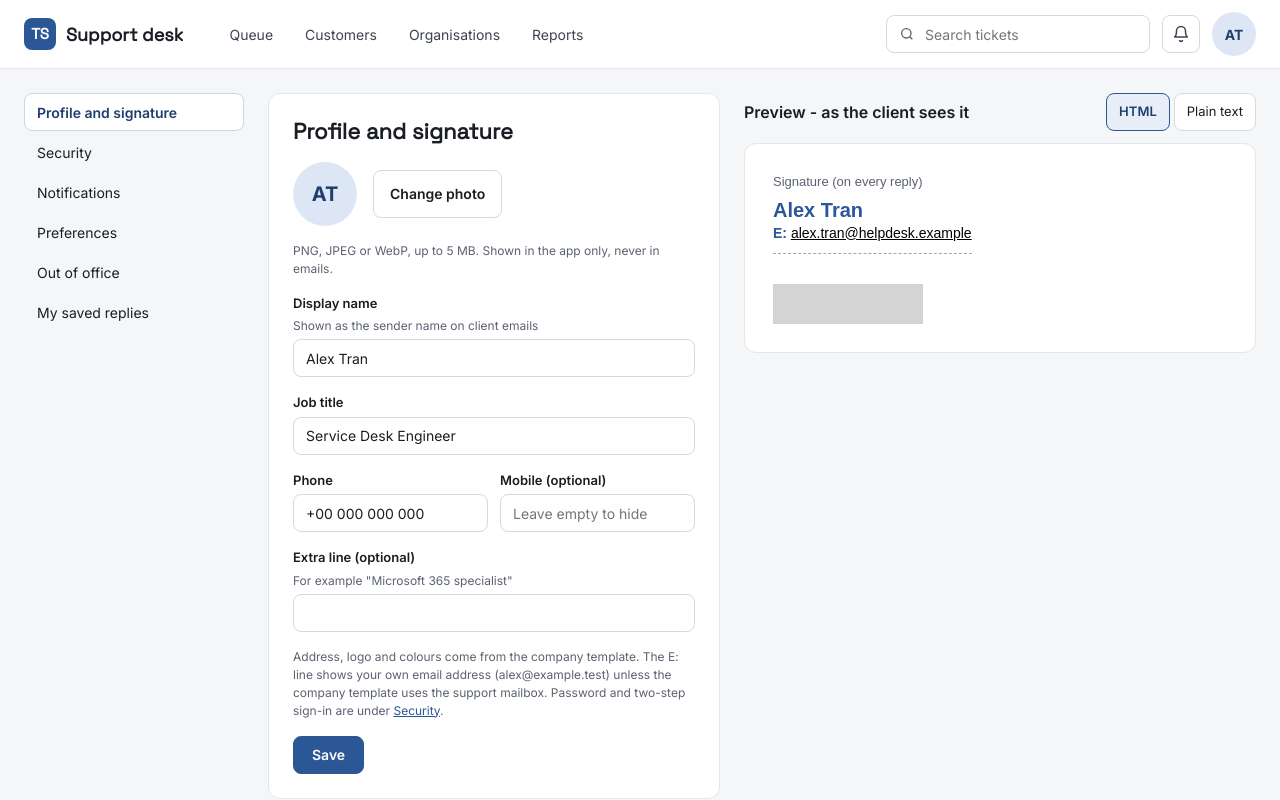
Test case: My settings - Profile and signature › loads the profile and the server's preview, then re-renders it as you type
Check: the element named "Signature" shows "alex.tran@helpdesk.example", box [791,224,972,240]
Replace the text in the field labelled "Display name" with "<b>Robin</b>". click: (494, 358)
box: [293,339,695,377]
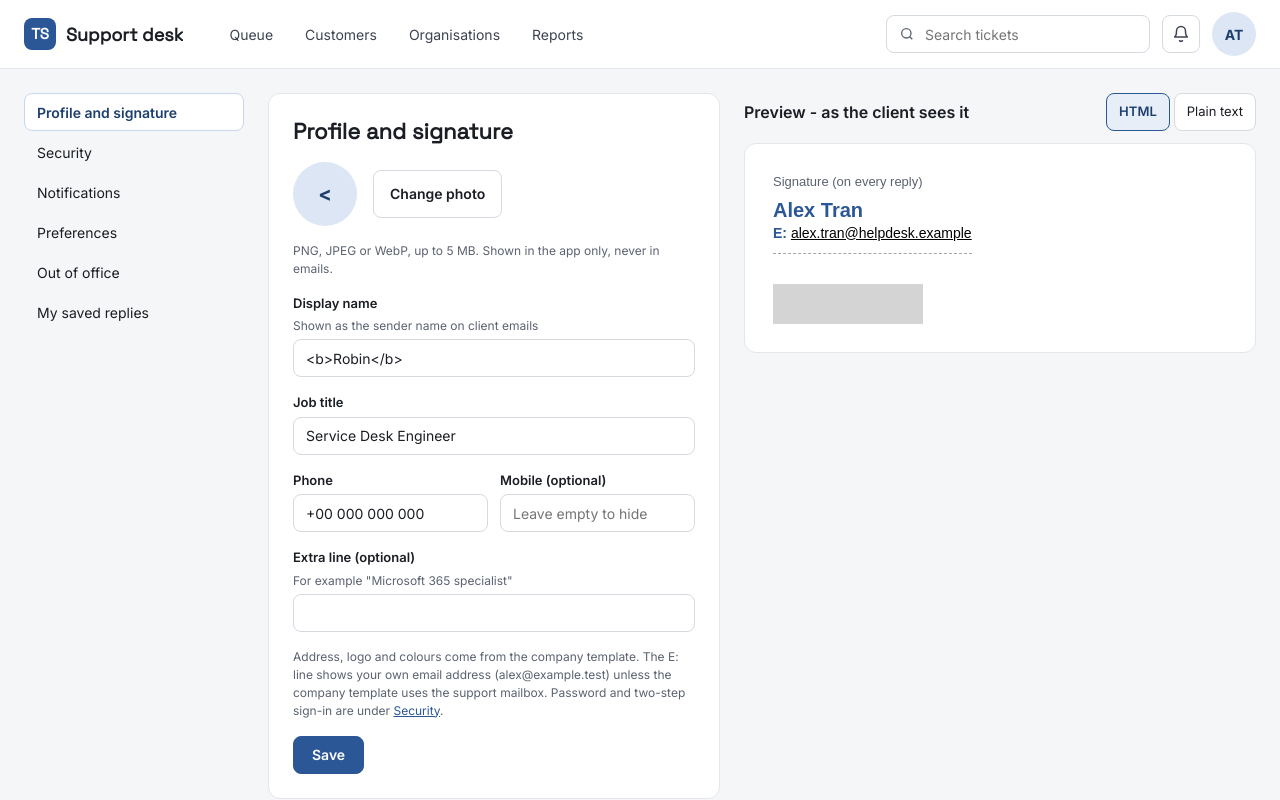
Click the button "Plain text". click: (1215, 112)
box: [1174,93,1256,131]
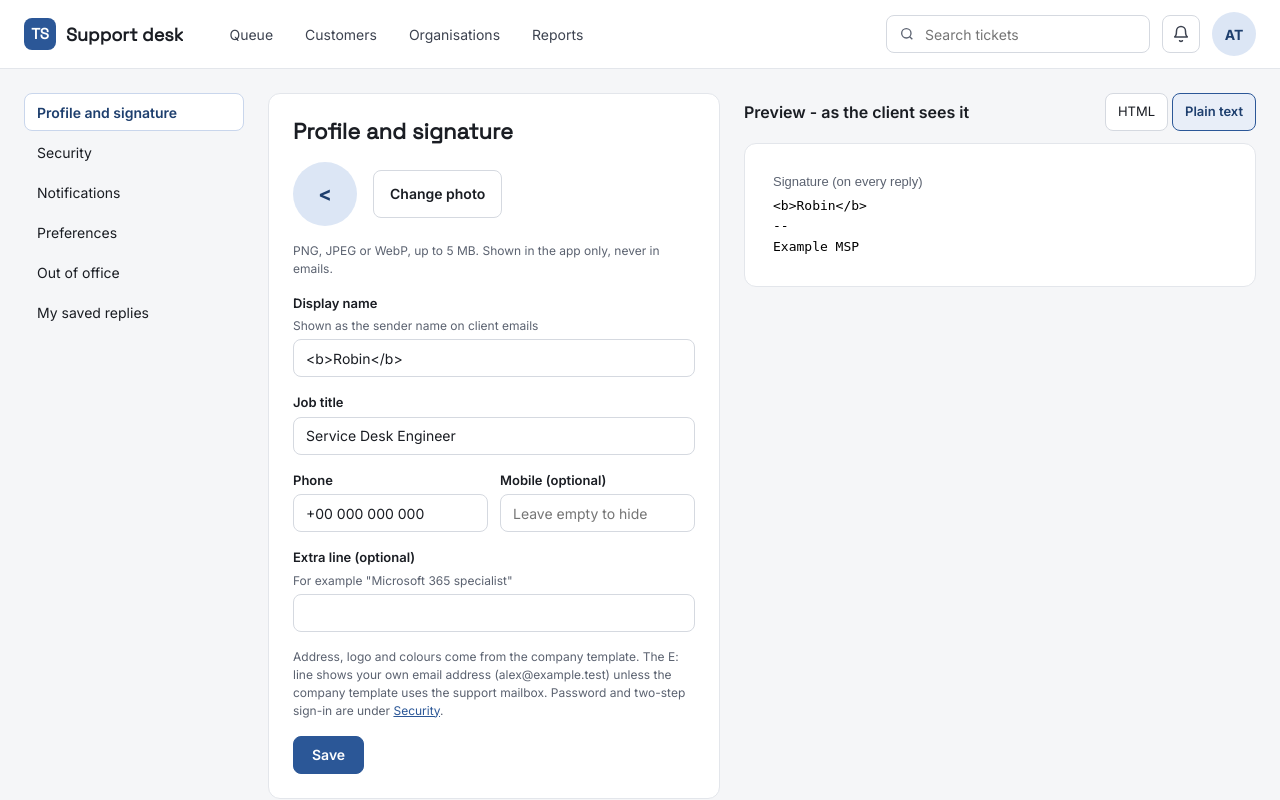
Check: the text "<b>Robin</b> -- Example MSP" is shown, box [773,198,867,254]
